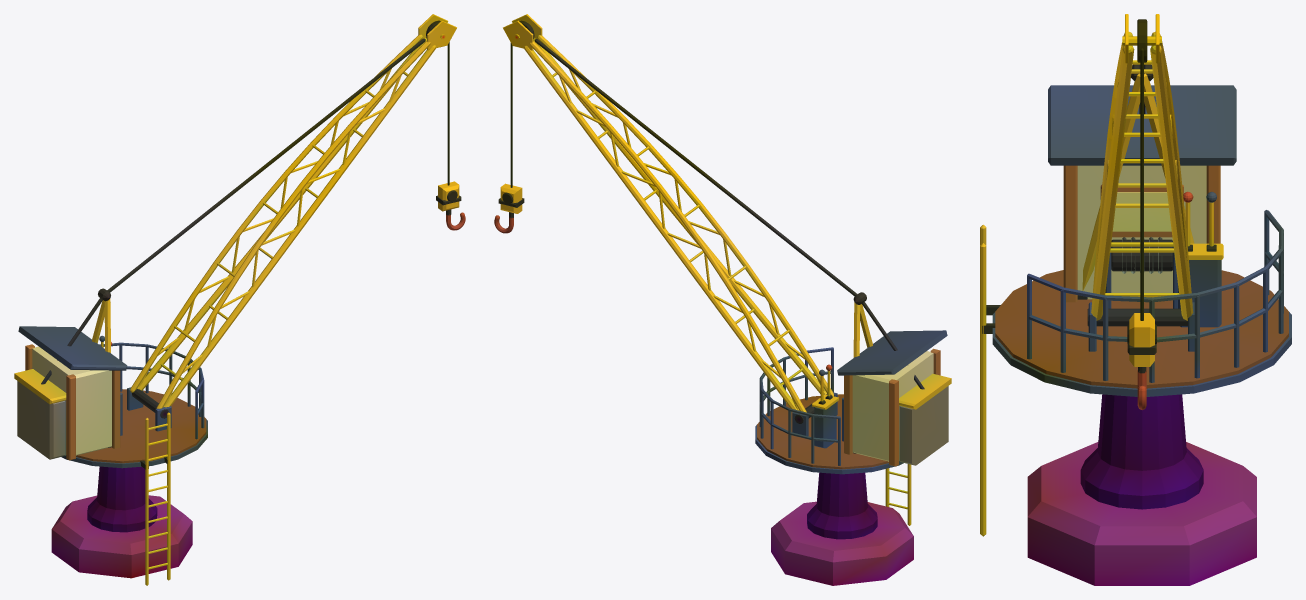
Rendered from Yard_Crane.glb.
3 views of the same model, side by side, from view 1: azimuth 30°, elevation 25°; view 2: azimuth 150°, elevation 25°; view 3: azimuth 270°, elevation 25° (orthographic). The views are drawn at different scales.
Visible parts, largest first — view 1: Move_Slew, Base, Move_Hook; view 2: Move_Slew, Base, Move_Hook; view 3: Move_Slew, Base, Move_Hook, Cable.
Boxes of the visible parts, x1=… form: Move_Slew: x1=14, y1=14, x2=456, y2=585; Base: x1=51, y1=466, x2=192, y2=578; Move_Hook: x1=436, y1=181, x2=465, y2=230; Move_Slew: x1=503, y1=14, x2=951, y2=525; Base: x1=771, y1=472, x2=913, y2=585; Move_Hook: x1=494, y1=183, x2=524, y2=233; Move_Slew: x1=980, y1=14, x2=1291, y2=536; Base: x1=1027, y1=394, x2=1256, y2=585; Move_Hook: x1=1127, y1=313, x2=1156, y2=409; Cable: x1=1140, y1=48, x2=1143, y2=320.
Size of the model in its own units: 8.79 by 8.8 by 3.14.
